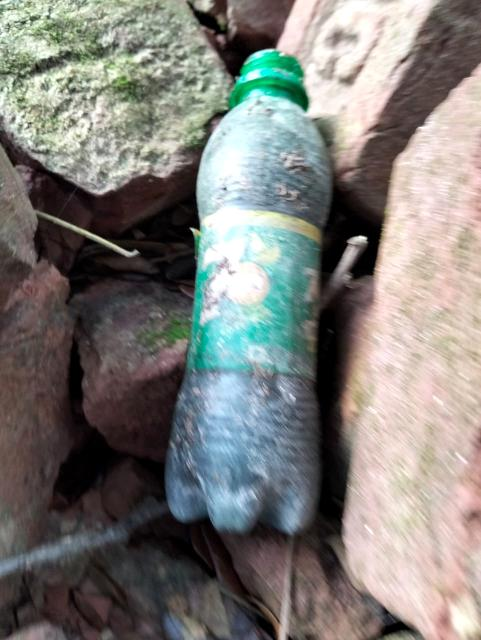bottle: (169, 68, 328, 526)
